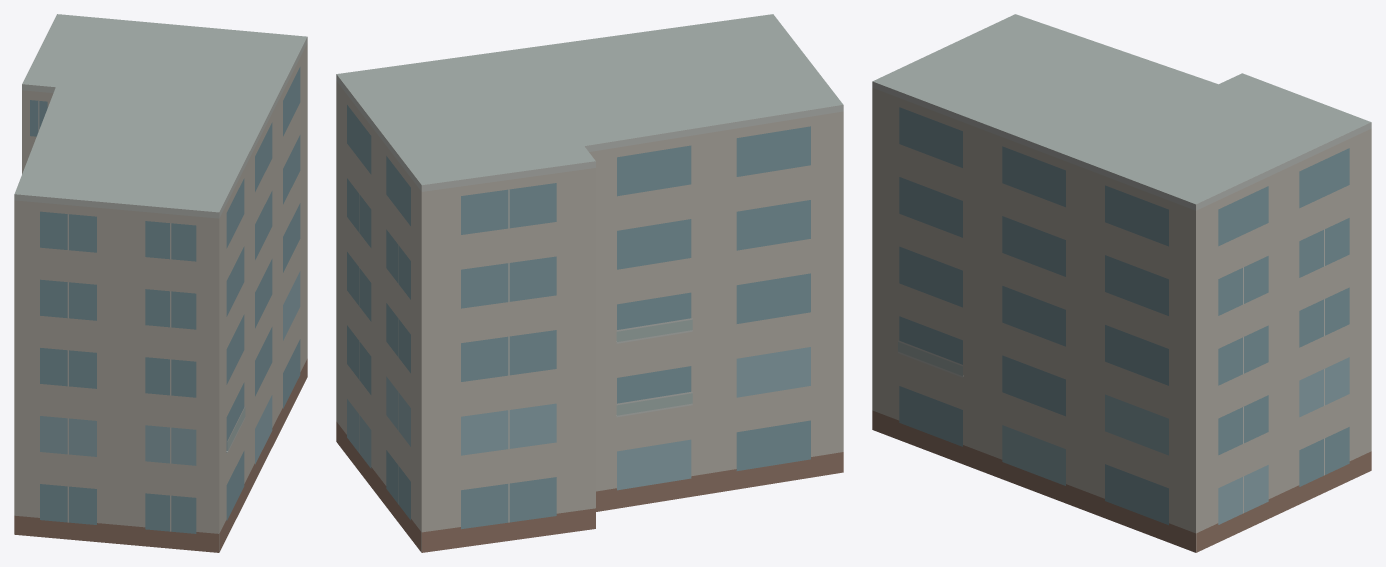
File: survey-upis-32676554.glb
3 views of the same model, side by side, from view 1: azimuth 30°, elevation 25°; view 2: azimuth 150°, elevation 25°; view 3: azimuth 270°, elevation 25° (orthographic). The views are drawn at different scales.
Parts seen in each view (by area): view 1: survey-upis-32676554.tmp; view 2: survey-upis-32676554.tmp; view 3: survey-upis-32676554.tmp.
Boxes of the visible parts, left/top/right/bottom form: survey-upis-32676554.tmp: left=14, top=14, right=307, bottom=552; survey-upis-32676554.tmp: left=336, top=14, right=843, bottom=552; survey-upis-32676554.tmp: left=872, top=14, right=1371, bottom=552.
Bounding box in the file's own units: 15.83 × 13.5 × 17.53.
